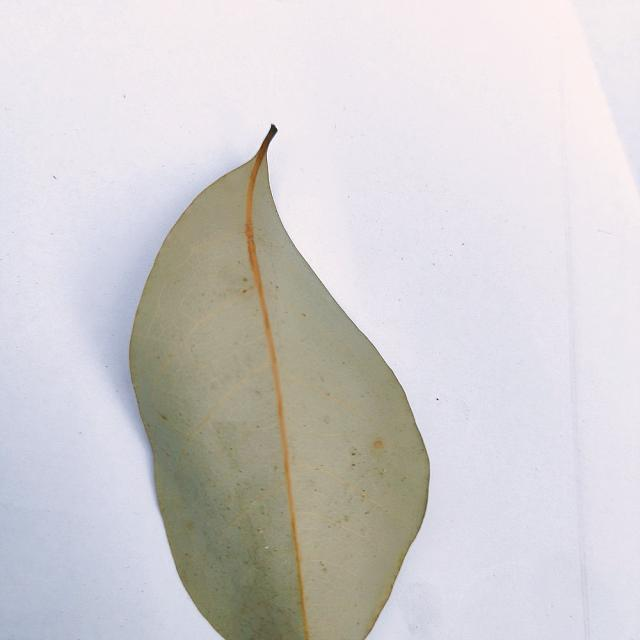Dry_Leaf-Lychee: (127, 129, 431, 639)
